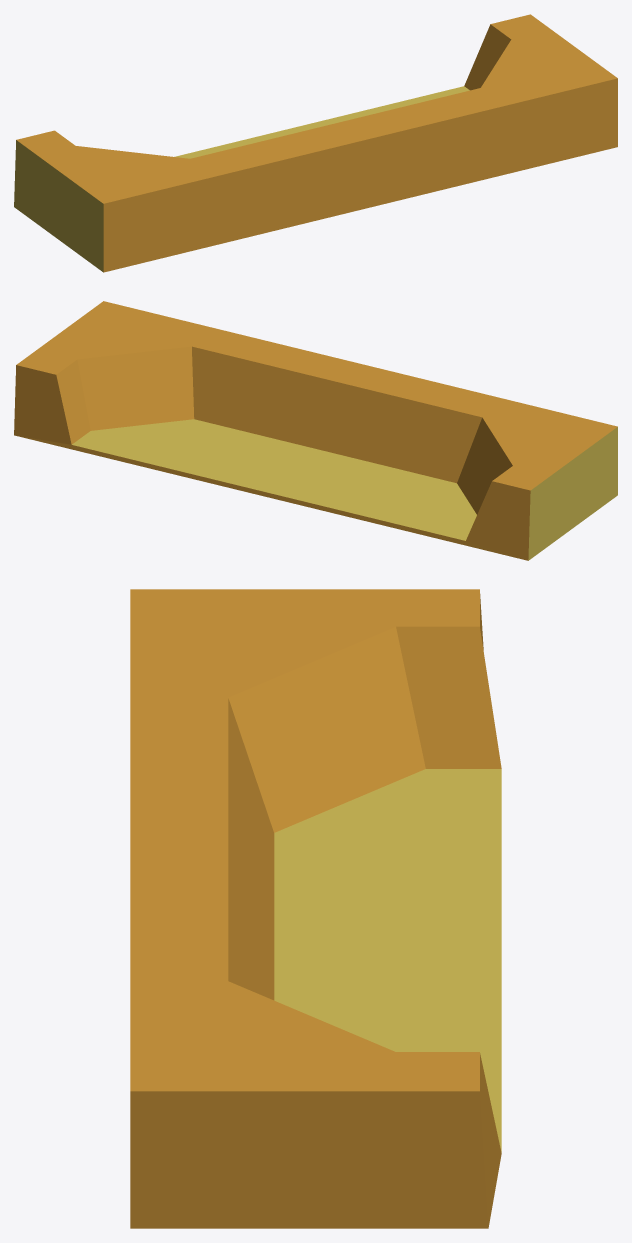
File: Edge.fbx
3 renders of one model, top to bottom at view 1: azimuth 30°, elevation 25°; view 2: azimuth 150°, elevation 25°; view 3: azimuth 270°, elevation 25°, orthographic. The views are drawn at different scales.
Visible parts, largest first — view 1: Cube; view 2: Cube; view 3: Cube.
Part boxes in pixels (bbox=[...]): Cube: bbox=[14, 14, 617, 272]; Cube: bbox=[14, 301, 617, 560]; Cube: bbox=[130, 589, 501, 1228].
Size of the model in its own units: 887 by 113 by 277.
